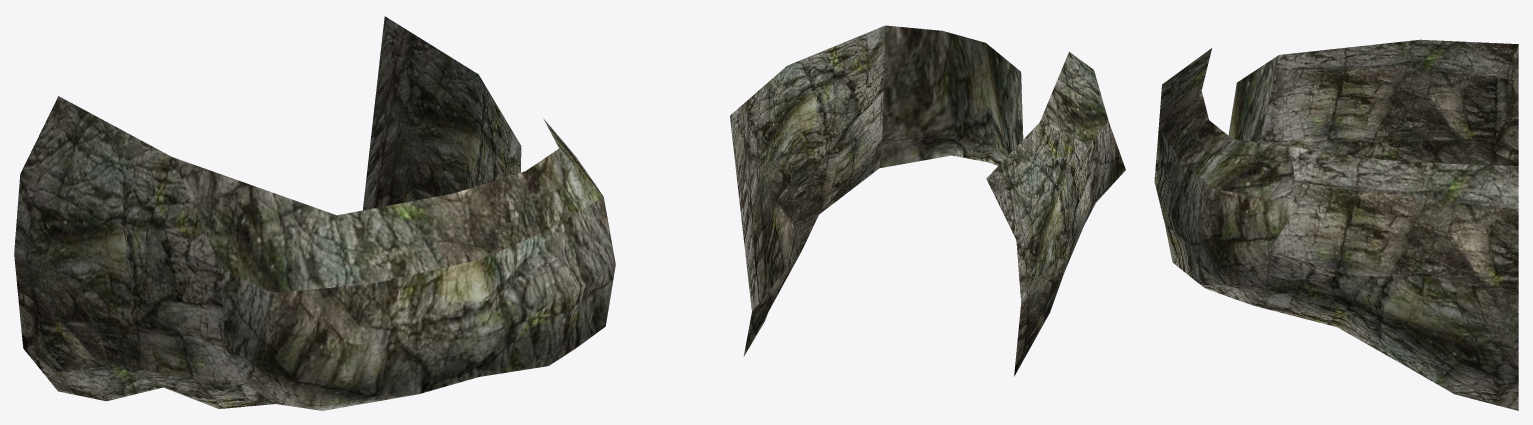
3 views of the same model, side by side, from view 1: azimuth 30°, elevation 25°; view 2: azimuth 150°, elevation 25°; view 3: azimuth 270°, elevation 25° (orthographic). The views are drawn at different scales.
Parts seen in each view (by area): view 1: model_Object91; view 2: model_Object91; view 3: model_Object91.
Boxes of the visible parts, bbox=[...] form: model_Object91: bbox=[14, 16, 615, 410]; model_Object91: bbox=[730, 25, 1125, 376]; model_Object91: bbox=[1154, 39, 1518, 410].
Size of the model in its own units: 6.09 by 3.73 by 5.02.
1 material, 1 textured.
